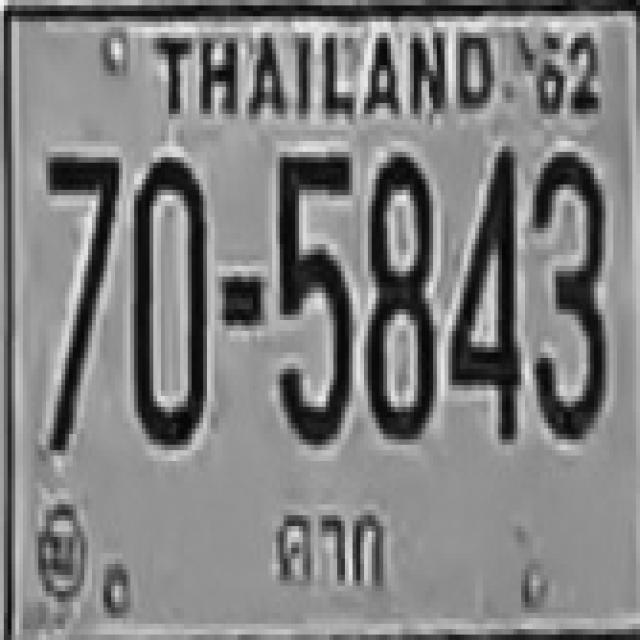0: (130, 155, 203, 442)
3: (529, 146, 602, 434)
4: (448, 144, 518, 436)
5: (276, 149, 349, 442)
7: (42, 152, 119, 439), (42, 152, 119, 396), (42, 152, 119, 347)
8: (364, 152, 433, 434)
Tak: (256, 499, 410, 608)
